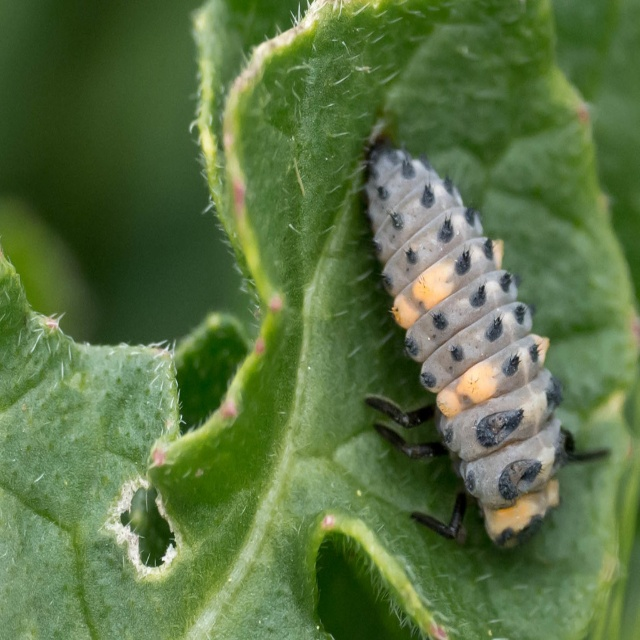Caterpillar: (359, 132, 613, 556)
